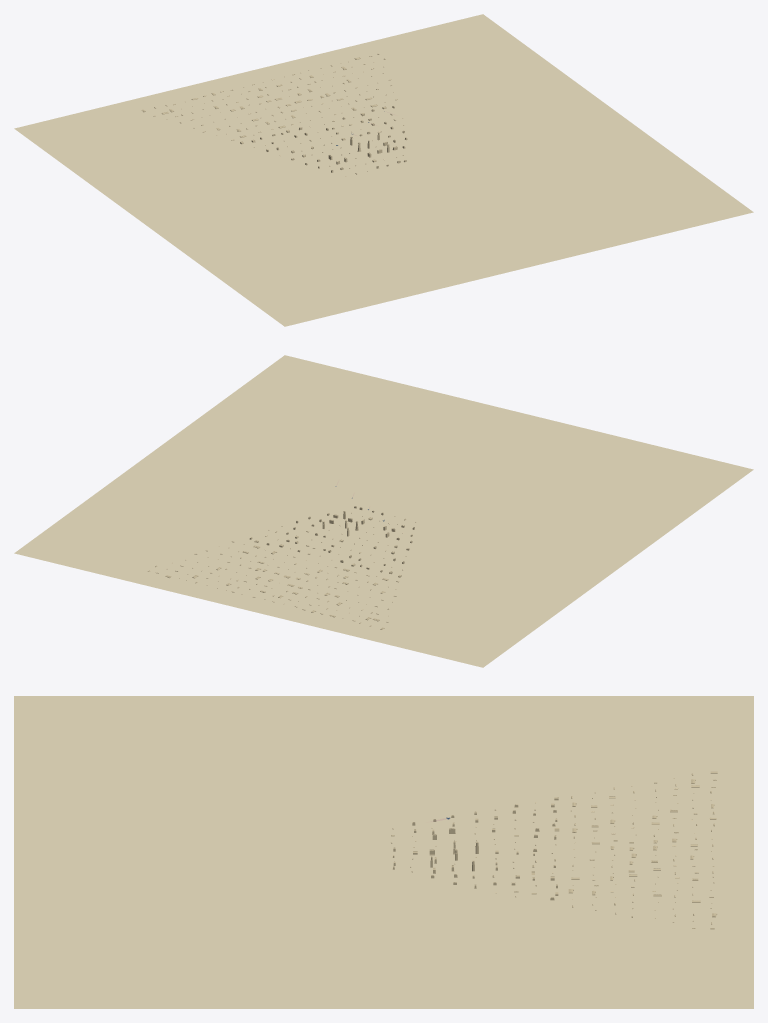
The model's file is sky-treatment.glb.
The picture shows the model from 3 angles, top to bottom: view 1: azimuth 30°, elevation 25°; view 2: azimuth 150°, elevation 25°; view 3: azimuth 270°, elevation 25°; orthographic projection. The views are drawn at different scales.
Parts seen in each view (by area): view 1: ground_plane; view 2: ground_plane; view 3: ground_plane.
Part boxes in pixels (left/top/right/bottom): ground_plane: left=14, top=14, right=753, bottom=326; ground_plane: left=14, top=355, right=753, bottom=667; ground_plane: left=14, top=696, right=753, bottom=1008.
Bounding box in the file's own units: 6000 × 451 × 6000.
